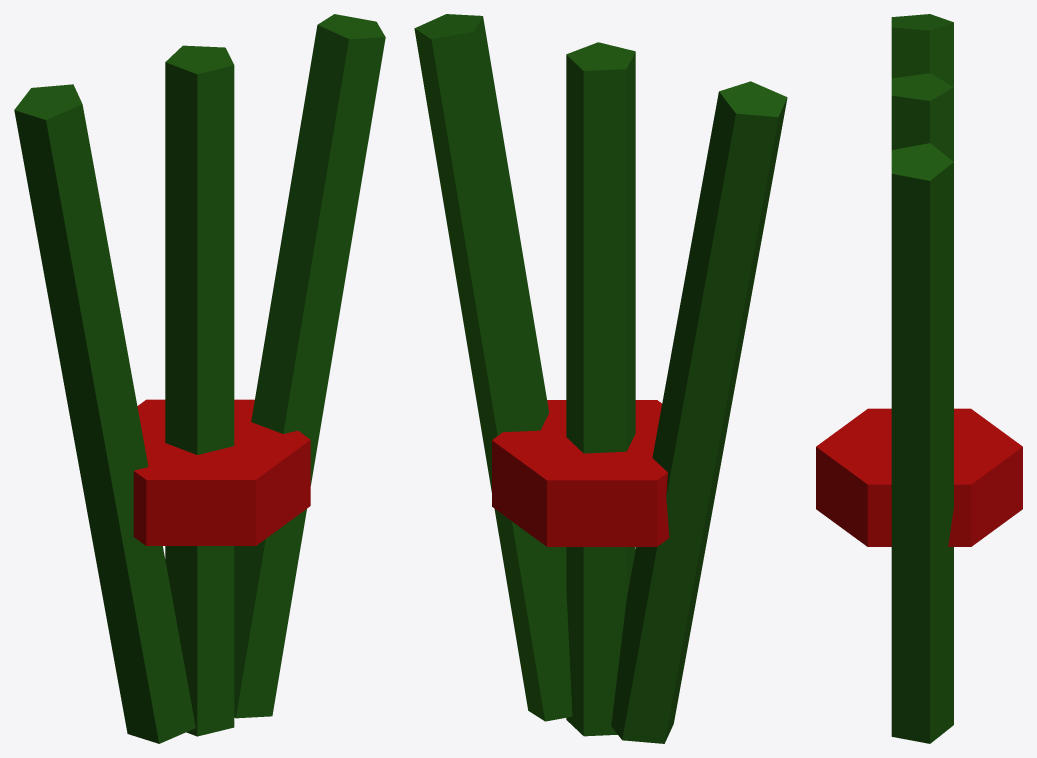
Rendered from herb_bundle.obj.
The picture shows the model from 3 angles, left to right: view 1: azimuth 30°, elevation 25°; view 2: azimuth 150°, elevation 25°; view 3: azimuth 270°, elevation 25°; orthographic projection. The views are drawn at different scales.
Parts seen in each view (by area): view 1: herb_bundle; view 2: herb_bundle; view 3: herb_bundle.
Part boxes in pixels (x1,y1,x2,y2): herb_bundle: (14,14,385,743); herb_bundle: (414,14,787,743); herb_bundle: (816,14,1022,743).
Bounding box in the file's own units: 0.229 × 0.4003 × 0.12.
